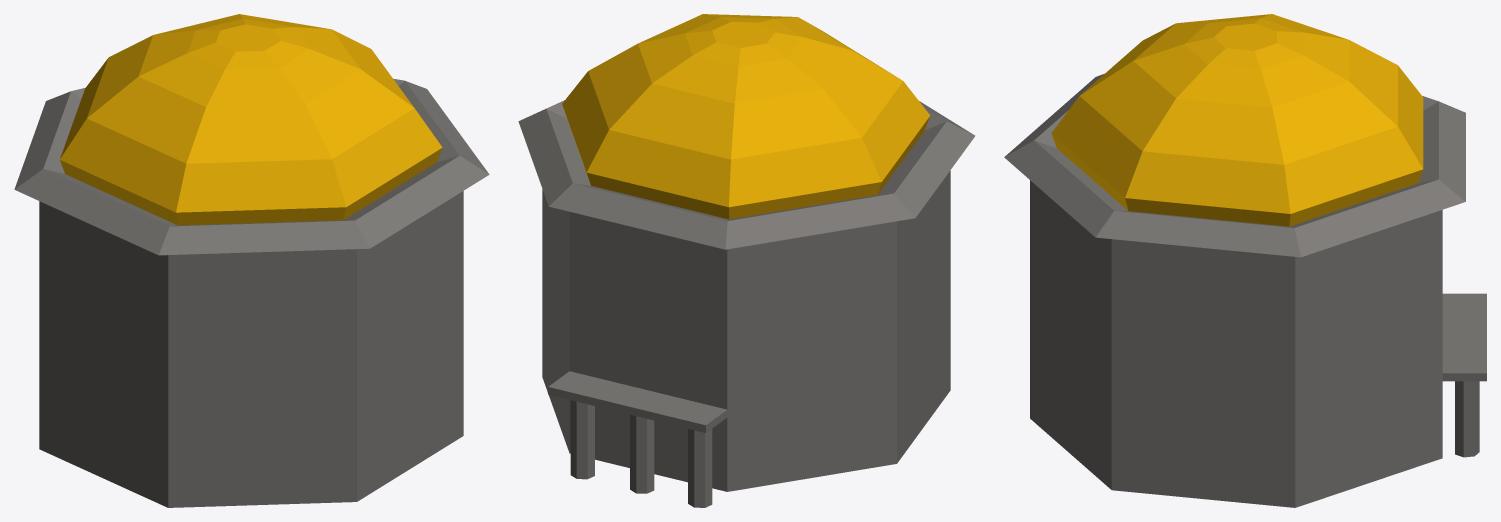
Rendered from house5.fbx.
The picture shows the model from 3 angles, left to right: view 1: azimuth 30°, elevation 25°; view 2: azimuth 150°, elevation 25°; view 3: azimuth 270°, elevation 25°; orthographic projection. The views are drawn at different scales.
Parts seen in each view (by area): view 1: Cylinder; view 2: Cylinder, Cylinder.002, Cylinder.001, Cylinder.003; view 3: Cylinder, Cylinder.001.
Part boxes in pixels (box(x1,y1,x2,y2)): Cylinder: box(14, 14, 489, 507); Cylinder: box(518, 14, 975, 491); Cylinder.002: box(688, 429, 712, 507); Cylinder.001: box(570, 400, 594, 479); Cylinder.003: box(630, 414, 654, 493); Cylinder: box(1004, 14, 1486, 507); Cylinder.001: box(1455, 381, 1479, 457).
Size of the model in its own units: 11277 by 10184 by 11493.
